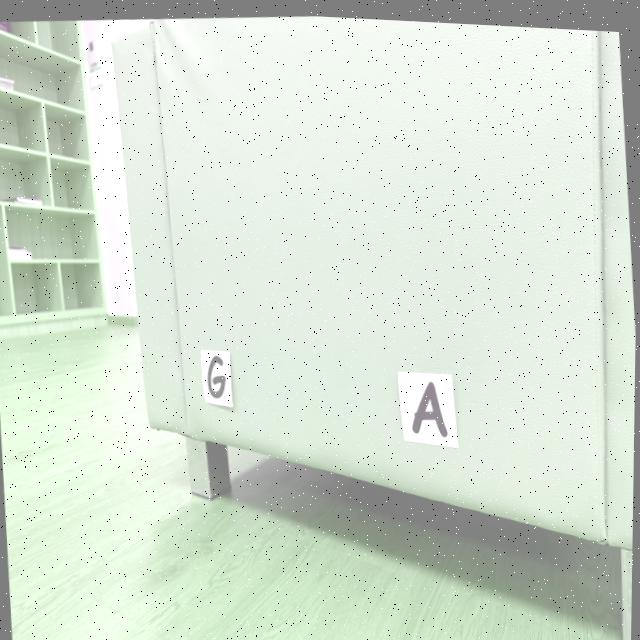A: (413, 376, 448, 431)
G: (208, 353, 228, 396)
